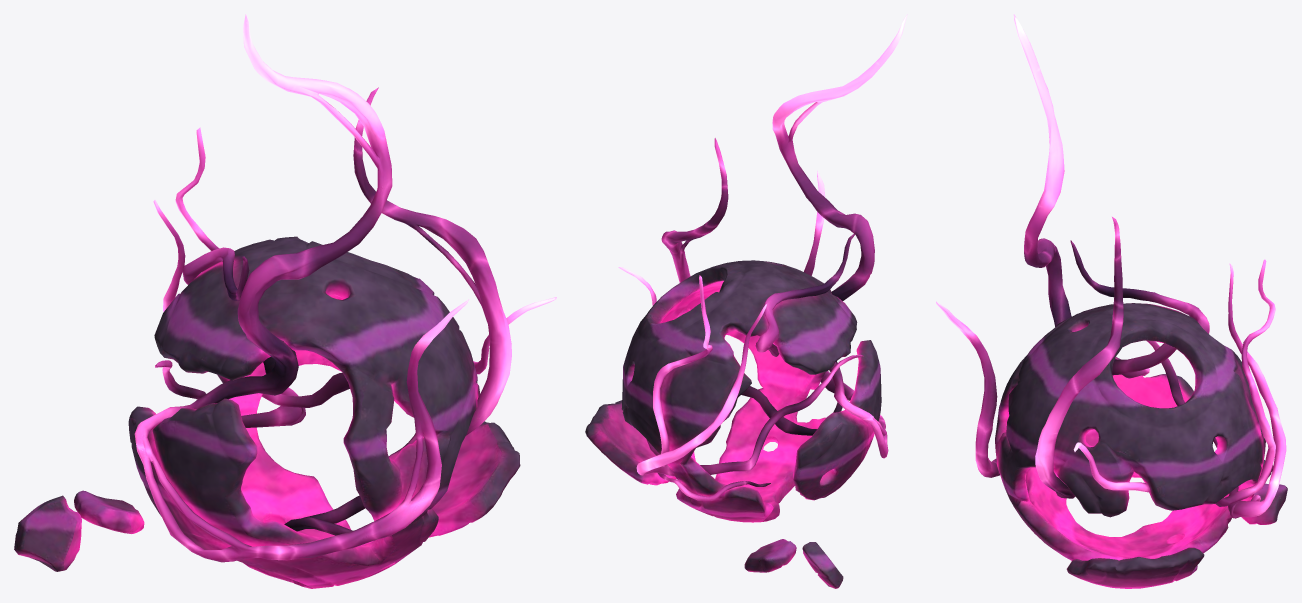
The model's file is caos_drs_chaospot_01c_chaos_v36.glb.
The picture shows the model from 3 angles, left to right: view 1: azimuth 30°, elevation 25°; view 2: azimuth 150°, elevation 25°; view 3: azimuth 270°, elevation 25°; orthographic projection. The views are drawn at different scales.
Visible parts, largest first — view 1: caos_drs_chaospot_01c; view 2: caos_drs_chaospot_01c; view 3: caos_drs_chaospot_01c.
Part boxes in pixels (x1,y1,x2,y2): caos_drs_chaospot_01c: [14, 14, 556, 588]; caos_drs_chaospot_01c: [585, 14, 907, 588]; caos_drs_chaospot_01c: [936, 14, 1287, 588].
Bounding box in the file's own units: 2.01 × 3 × 1.9.
Materials: 2 (2 with a texture image).
